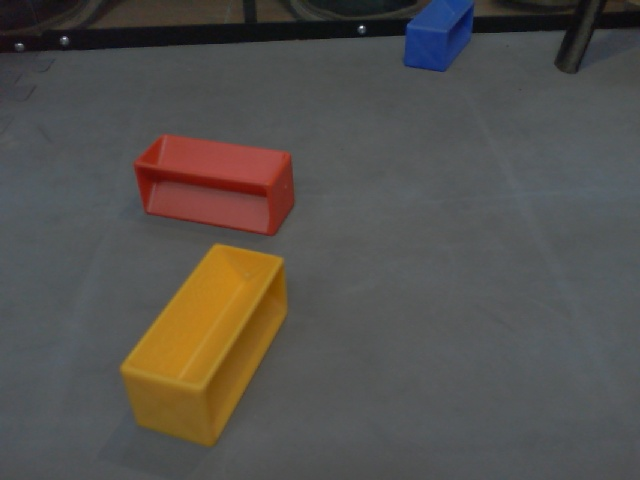BlueSample: (401, 1, 475, 73)
RedSample: (130, 131, 298, 239)
YellowSample: (116, 244, 288, 453)
